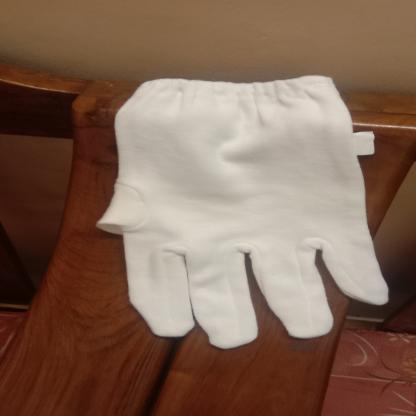gloved_hand: (90, 71, 398, 351)
